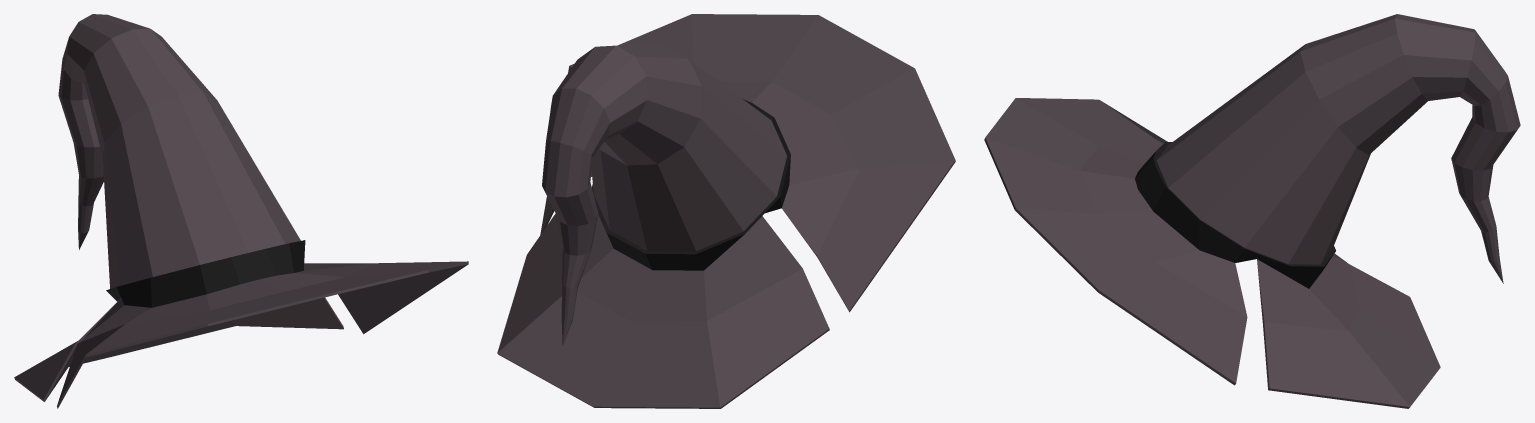
Rendered from WizardHat.fbx.
3 renders of one model, left to right at view 1: azimuth 30°, elevation 25°; view 2: azimuth 150°, elevation 25°; view 3: azimuth 270°, elevation 25°, orthographic. The views are drawn at different scales.
Parts seen in each view (by area): view 1: WizardHat; view 2: WizardHat; view 3: WizardHat.
Boxes of the visible parts, left/top/right/bottom form: WizardHat: left=14, top=14, right=468, bottom=408; WizardHat: left=497, top=14, right=955, bottom=408; WizardHat: left=984, top=14, right=1520, bottom=408.
Bounding box in the file's own units: 37.13 × 31.83 × 44.11.
